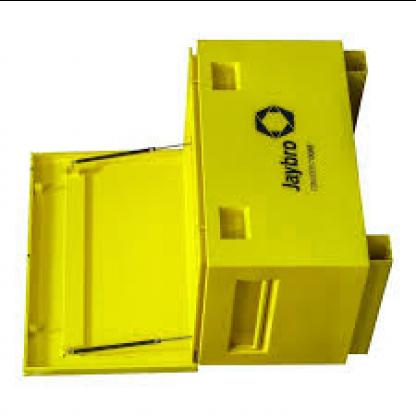Tool Box: (15, 36, 396, 384)
